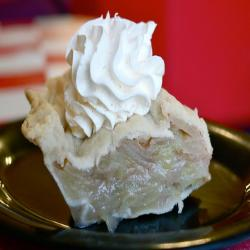apple_pie: (12, 80, 217, 230)
chantilly: (51, 16, 186, 143)
